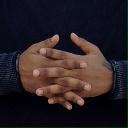hand: (15, 33, 92, 110), (32, 32, 114, 104)
